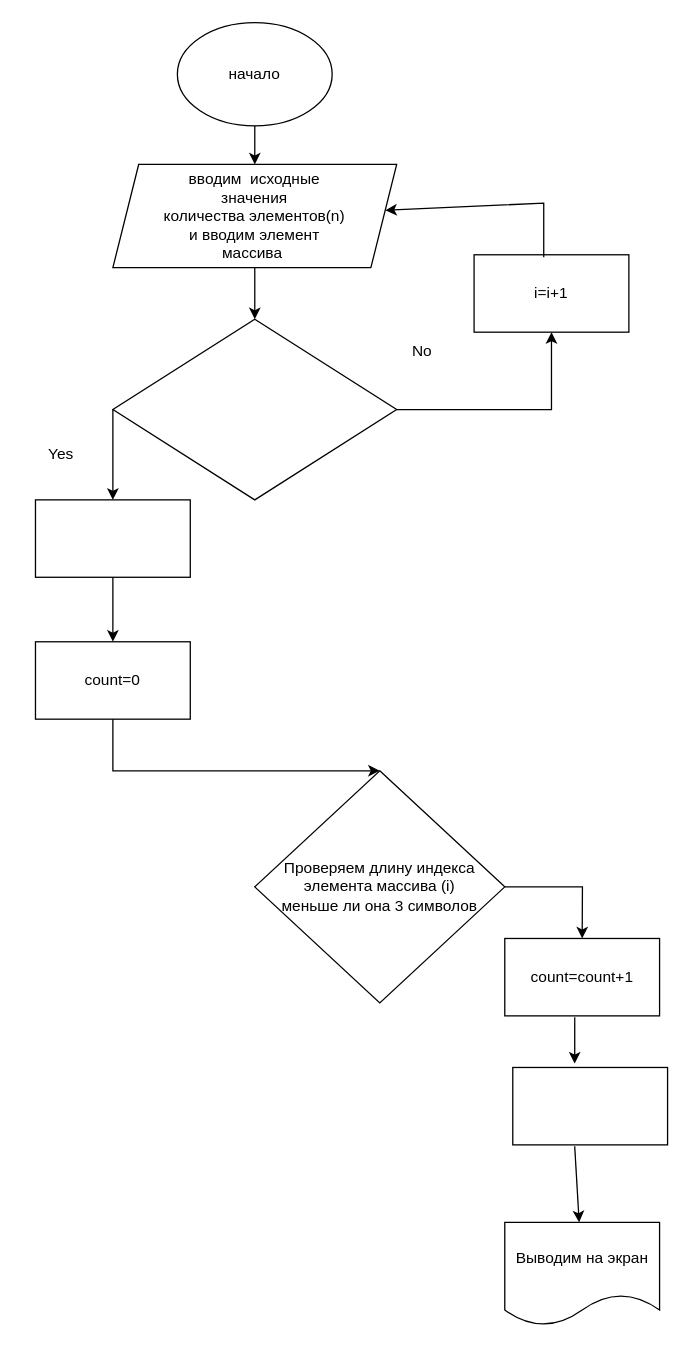
Image size: 690x1348. Some labels were removed from this diagram. The centre of each missing label's shape, as x and y in pixels:
индекс элемента массива(i) меньше количества элементов(n): [254,409]
массив c n количеством элементов: [112,538]
создаем новый массив с сount количеством элементом: [589,1105]
